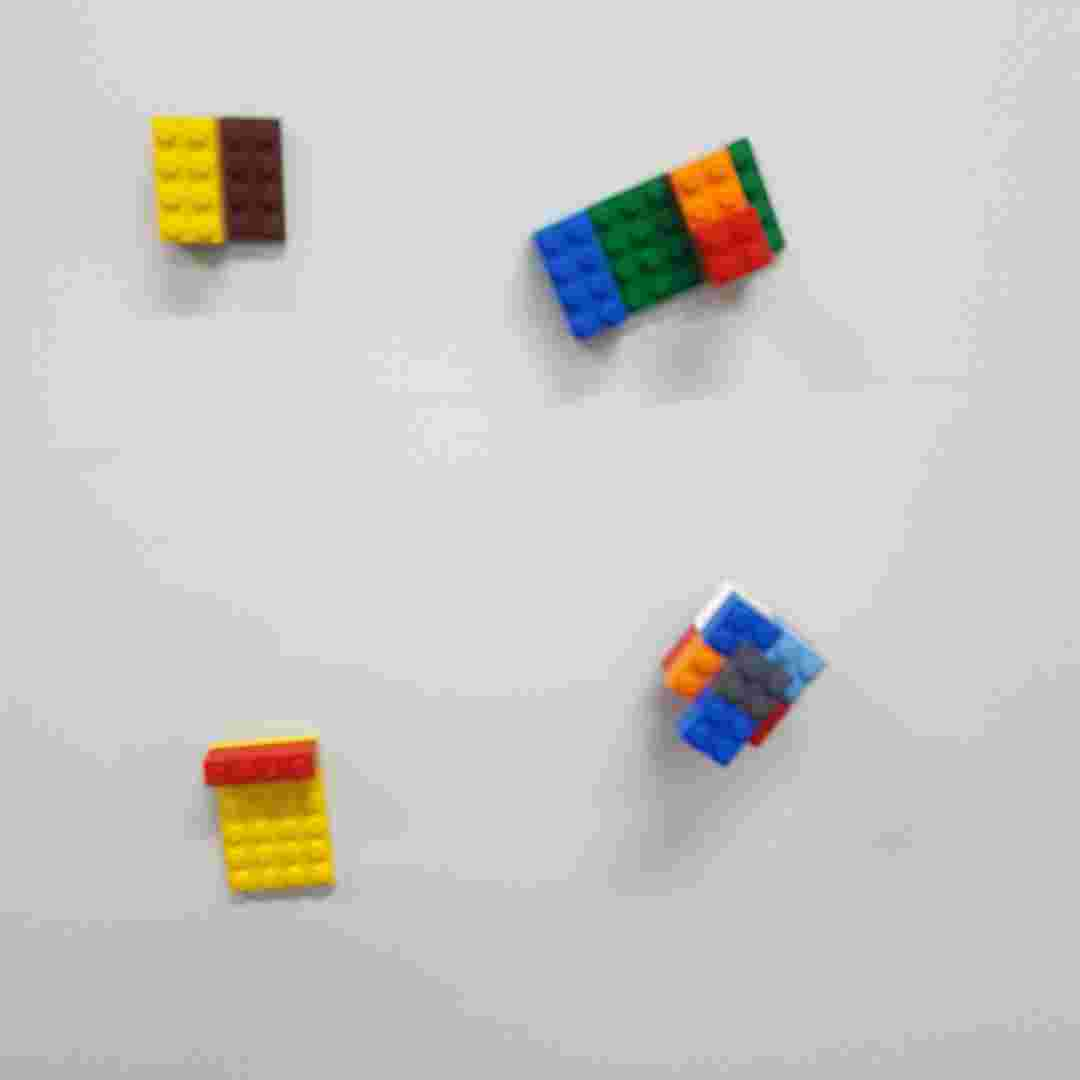LEGO: (525, 132, 794, 341), (647, 586, 831, 767), (198, 729, 342, 905), (145, 112, 289, 246)
